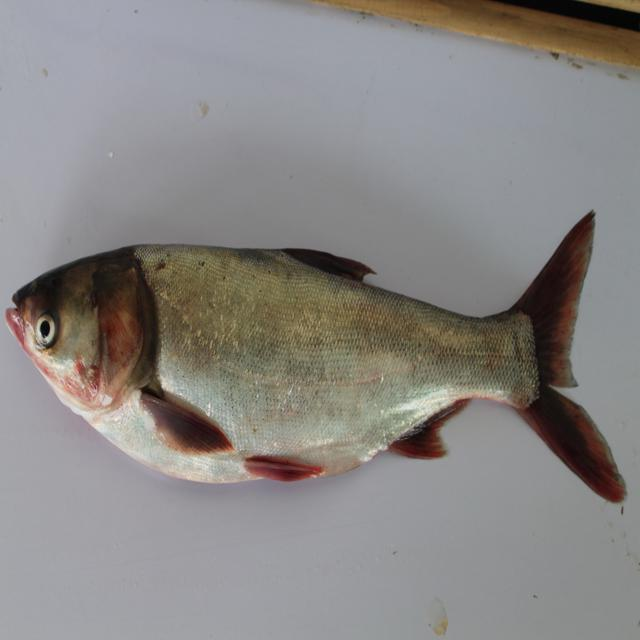SilverCarp: (7, 240, 639, 510)
